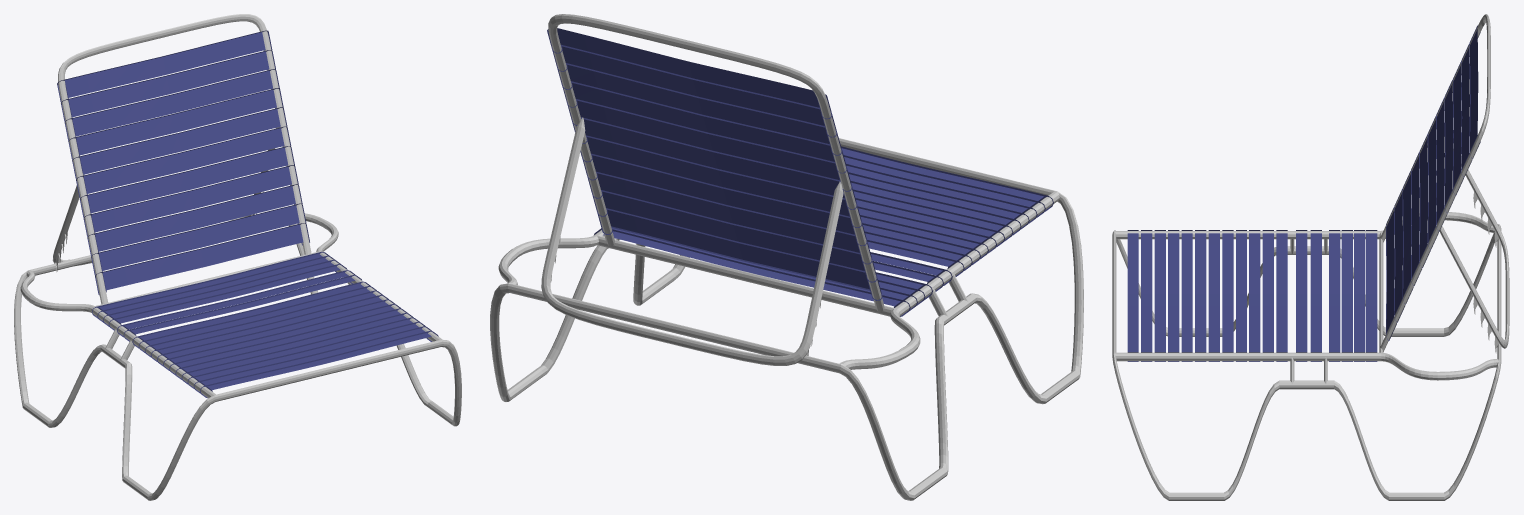
Rendered from sh-bsby-pool-lounge.glb.
3 views of the same model, side by side, from view 1: azimuth 30°, elevation 25°; view 2: azimuth 150°, elevation 25°; view 3: azimuth 270°, elevation 25° (orthographic). The views are drawn at different scales.
Parts seen in each view (by area): view 1: lounge_Mesh; view 2: lounge_Mesh; view 3: lounge_Mesh.
Boxes of the visible parts, box(x1,y1,x2,y2) form: lounge_Mesh: box(14, 14, 461, 500); lounge_Mesh: box(490, 14, 1083, 500); lounge_Mesh: box(1112, 14, 1509, 500).
Bounding box in the file's own units: 1 × 1 × 1.
